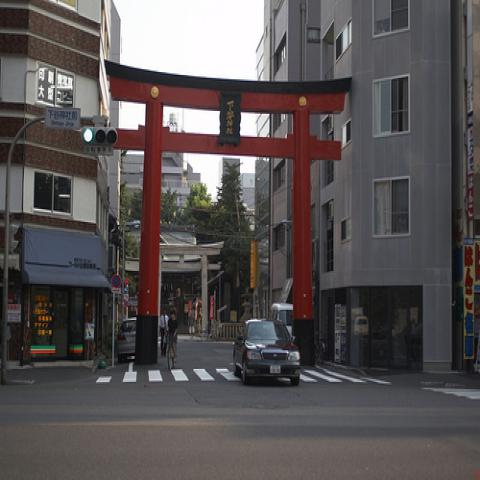car: (233, 320, 300, 388), (115, 317, 138, 362), (268, 301, 294, 336)
